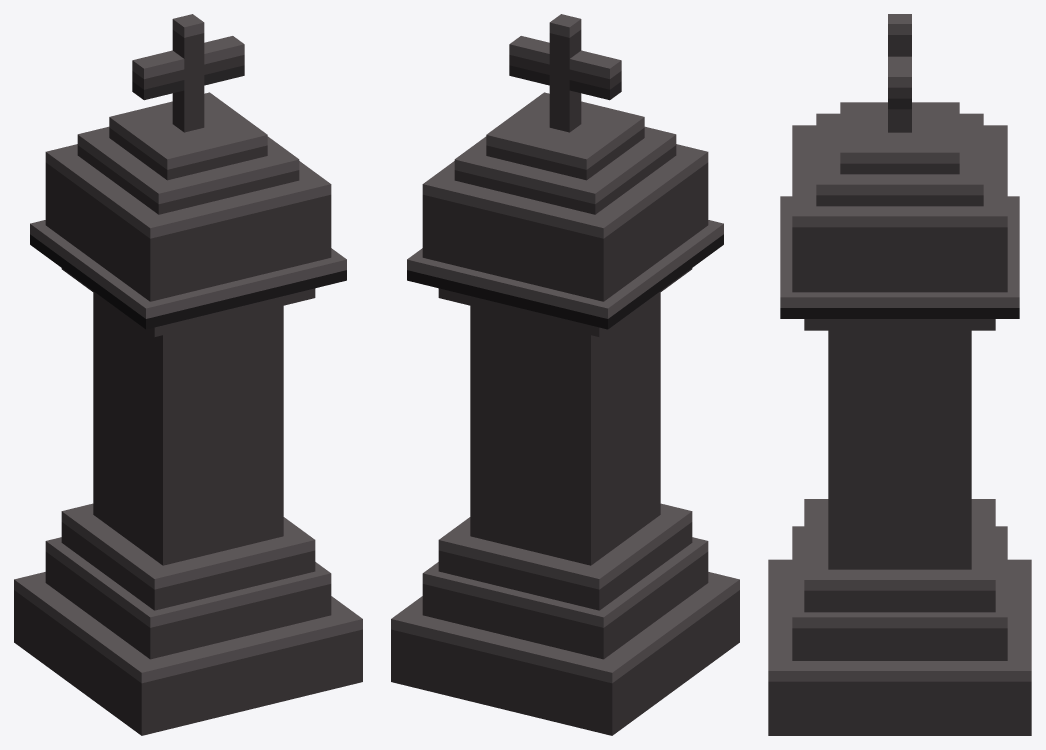
File: king_black.obj
The picture shows the model from 3 angles, left to right: view 1: azimuth 30°, elevation 25°; view 2: azimuth 150°, elevation 25°; view 3: azimuth 270°, elevation 25°; orthographic projection. The views are drawn at different scales.
Parts seen in each view (by area): view 1: king_black; view 2: king_black; view 3: king_black.
Part boxes in pixels (x1,y1,x2,y2): king_black: (14, 14, 362, 735); king_black: (391, 14, 739, 735); king_black: (768, 14, 1031, 735).
Size of the model in its own units: 0.462 by 1.28 by 0.462.
Materials: 1 (1 with a texture image).
